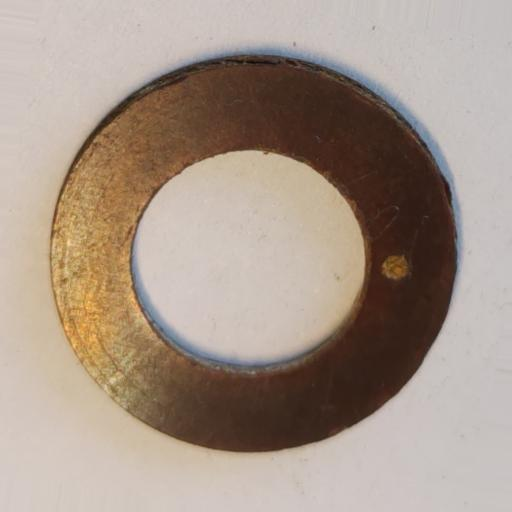defect: (382, 253, 411, 282)
